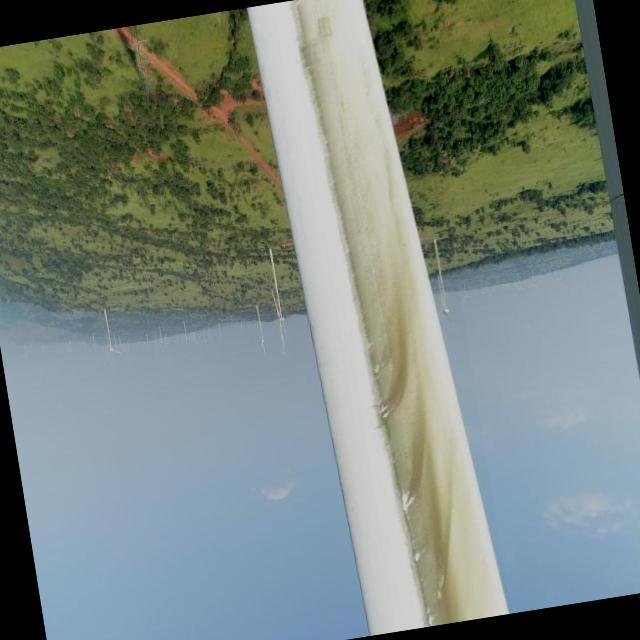Dirt: (288, 0, 510, 640)
